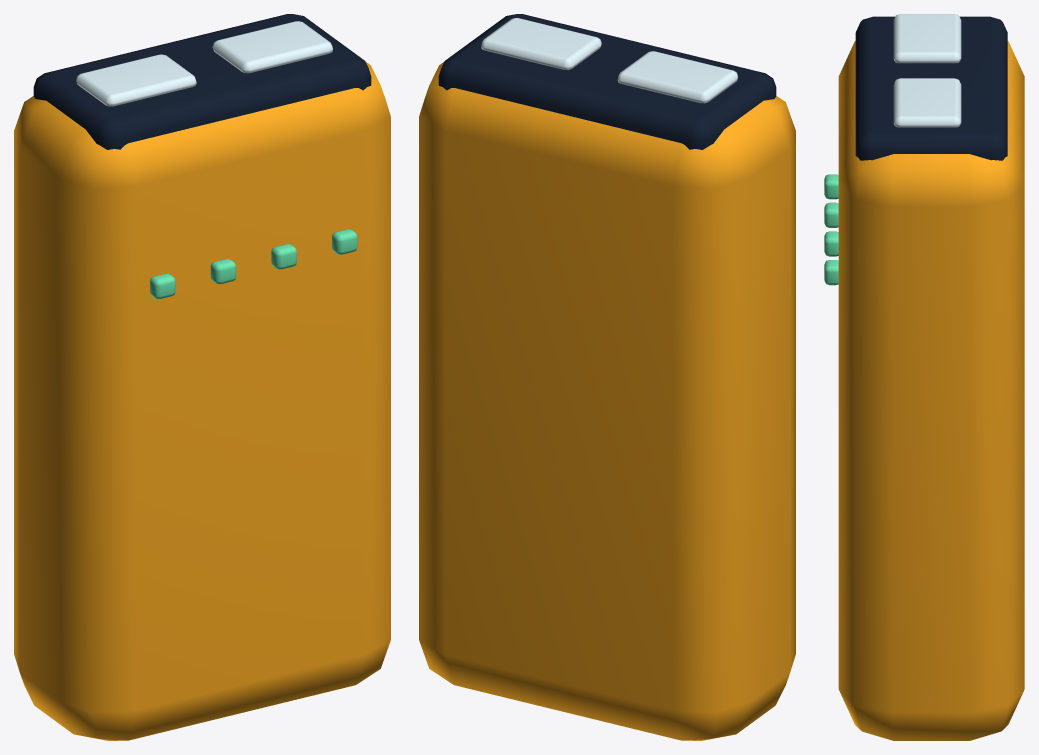
Rendered from powerbank.fbx.
3 renders of one model, left to right at view 1: azimuth 30°, elevation 25°; view 2: azimuth 150°, elevation 25°; view 3: azimuth 270°, elevation 25°, orthographic. The views are drawn at different scales.
Visible parts, largest first — view 1: powerbank; view 2: powerbank; view 3: powerbank.
Part boxes in pixels (left/top/right/bottom): powerbank: left=14, top=14, right=390, bottom=740; powerbank: left=419, top=14, right=795, bottom=740; powerbank: left=824, top=14, right=1024, bottom=740.
Bounding box in the file's own units: 53.09 × 100 × 29.26.
Materials: 1 (1 with a texture image).
